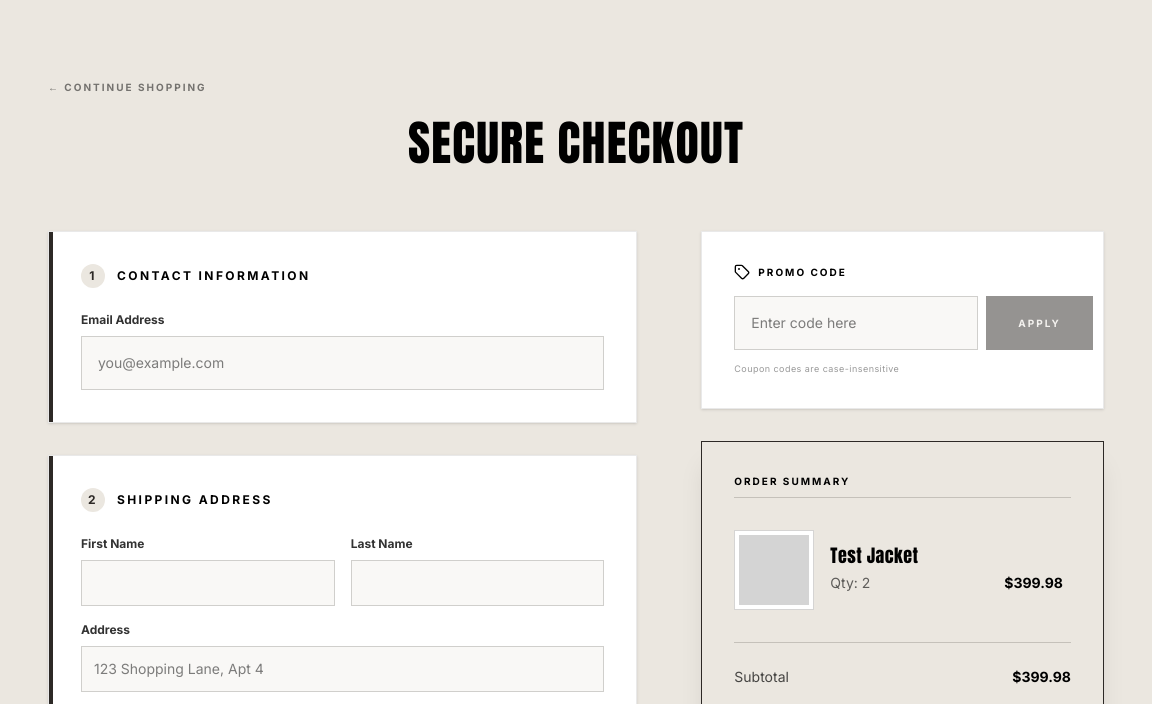
Test: Checkout › removes applied coupon
Type "SAVE10" into the field with placeholder "Enter code here" at (856, 323), box [734,296,978,350]
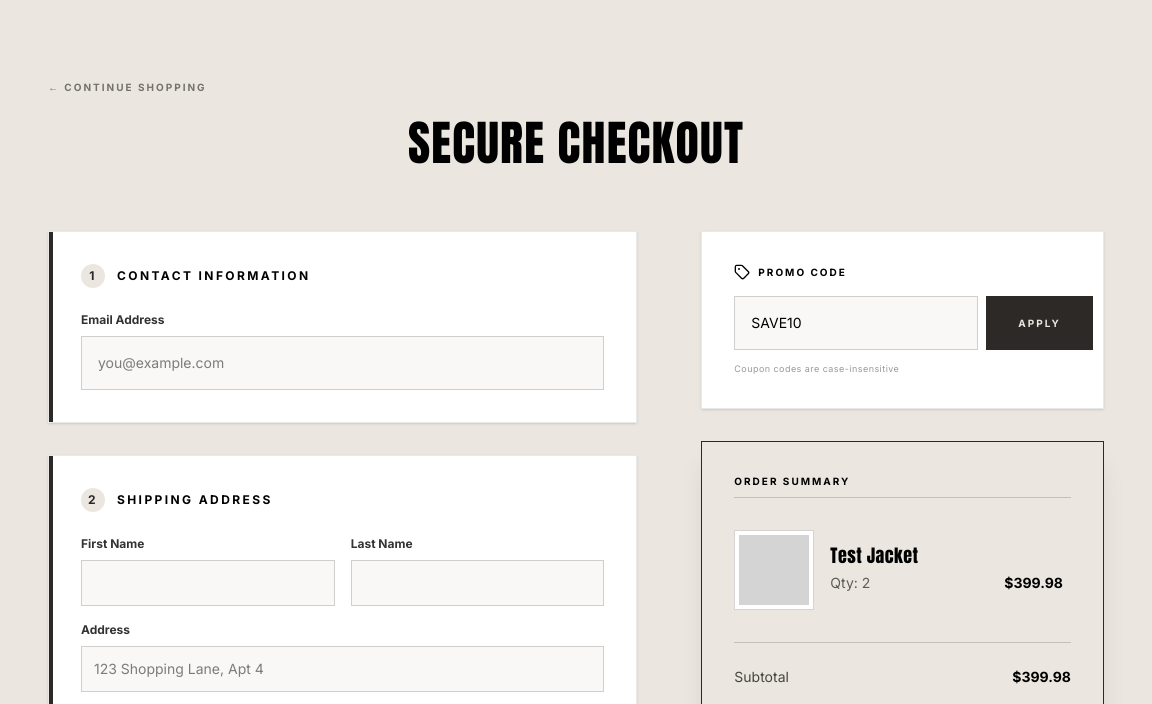
Click the button "Apply" at (1040, 323), box [986,296,1093,350]
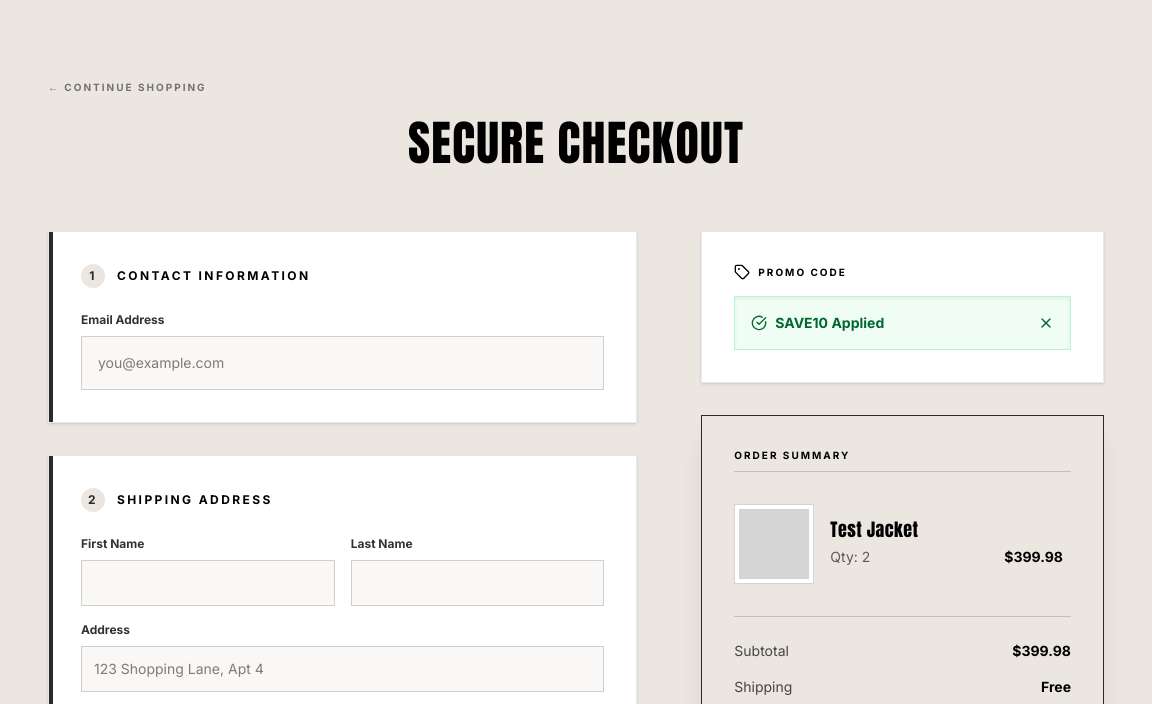
Expected: the text "SAVE10 Applied" is shown, [751,313,884,333]
Click the 2nd button at (1046, 323), box [1038,315,1054,331]
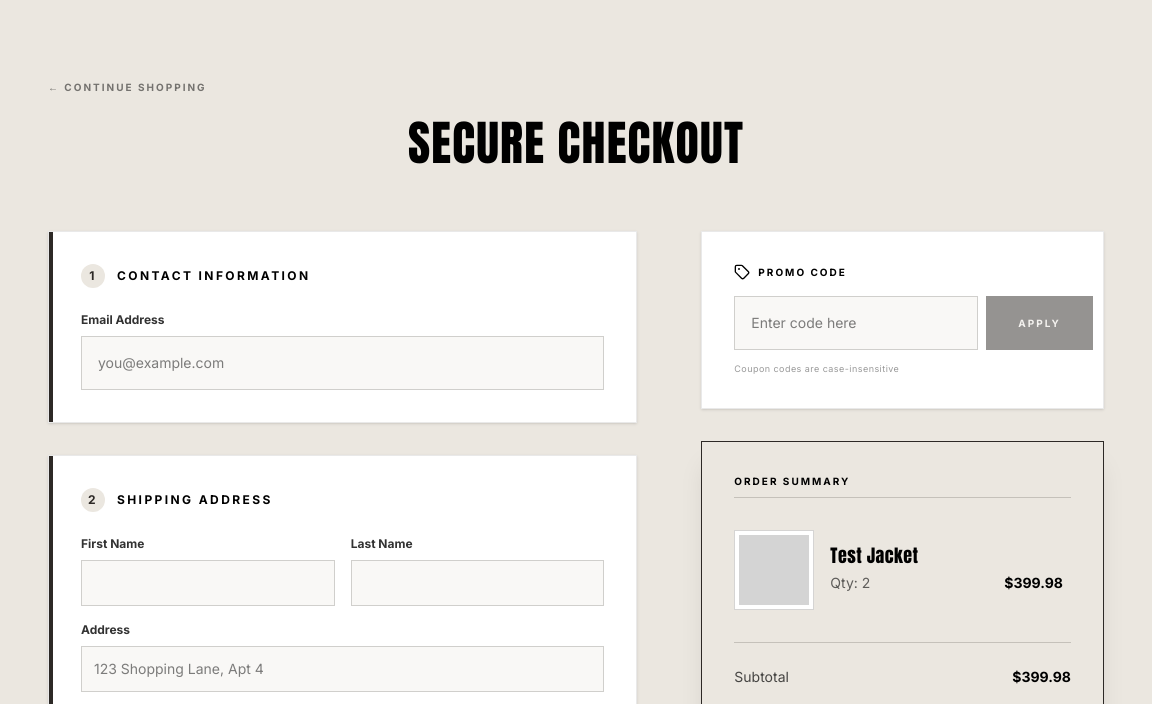
Expected: the text "SAVE10 Applied" is gone
